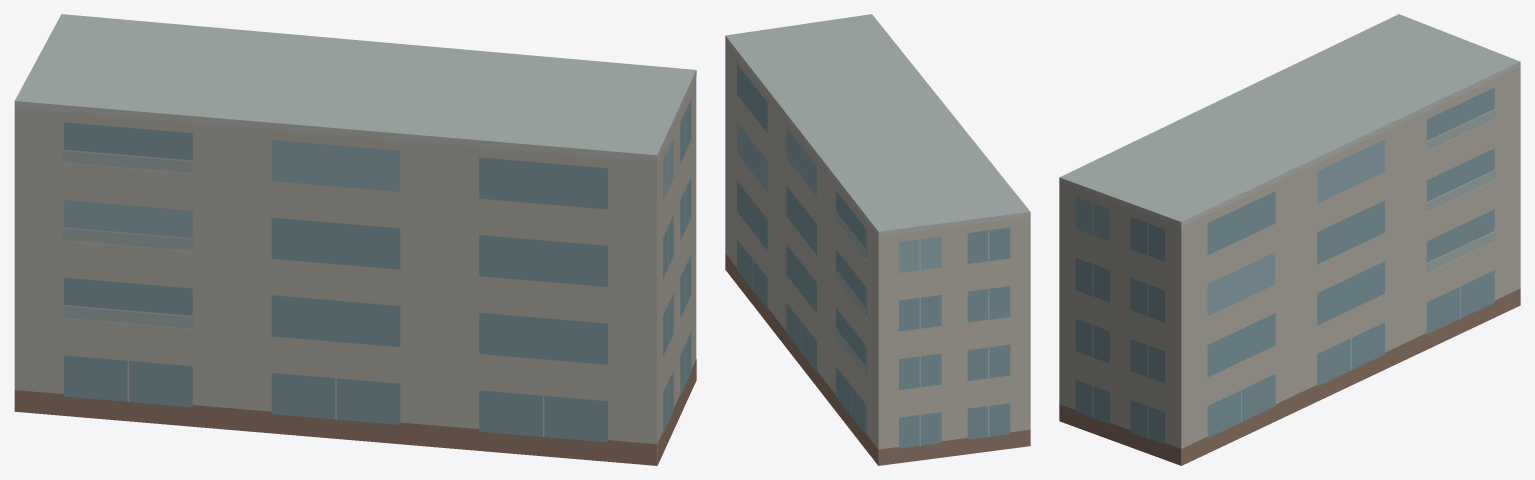
File: survey-upis-32539212.glb
3 renders of one model, left to right at view 1: azimuth 30°, elevation 25°; view 2: azimuth 150°, elevation 25°; view 3: azimuth 270°, elevation 25°, orthographic. The views are drawn at different scales.
Visible parts, largest first — view 1: survey-upis-32539212.tmp; view 2: survey-upis-32539212.tmp; view 3: survey-upis-32539212.tmp.
Boxes of the visible parts, <box> form: survey-upis-32539212.tmp: <box>14,14,696,465</box>; survey-upis-32539212.tmp: <box>725,14,1030,465</box>; survey-upis-32539212.tmp: <box>1059,14,1520,465</box>.
Bounding box in the file's own units: 21.6 × 11.8 × 20.23.
